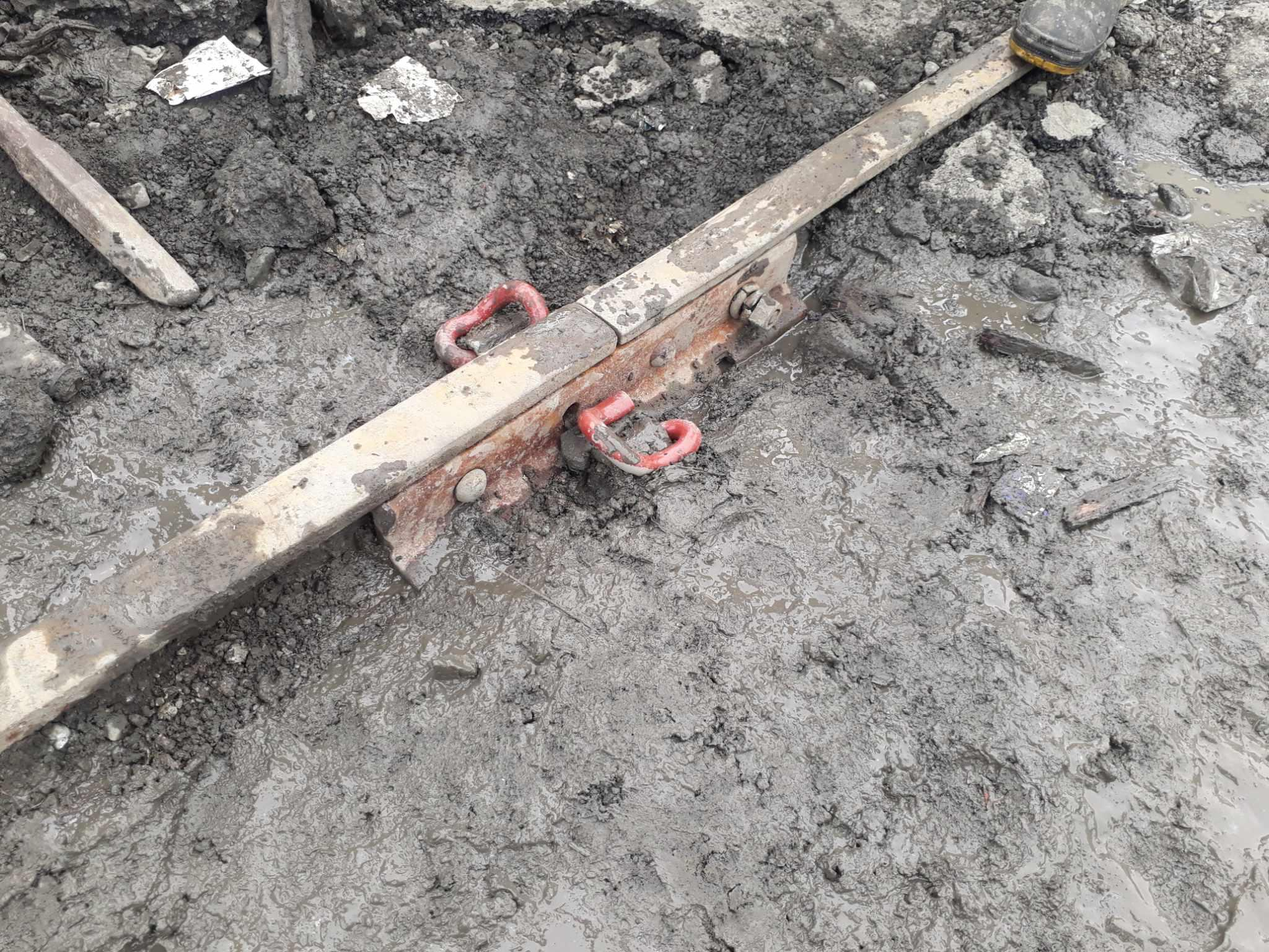railway-gap: (519, 238, 682, 396)
